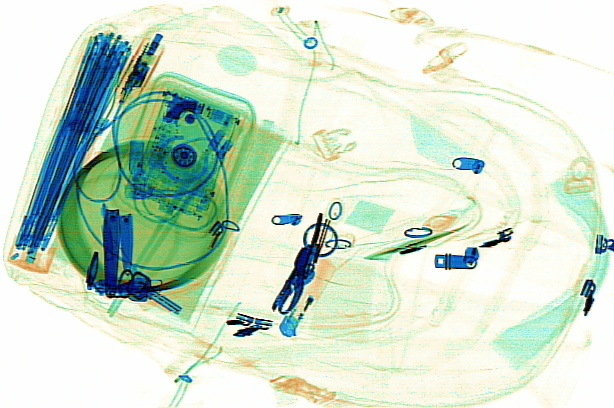lighter: (278, 253, 335, 339)
